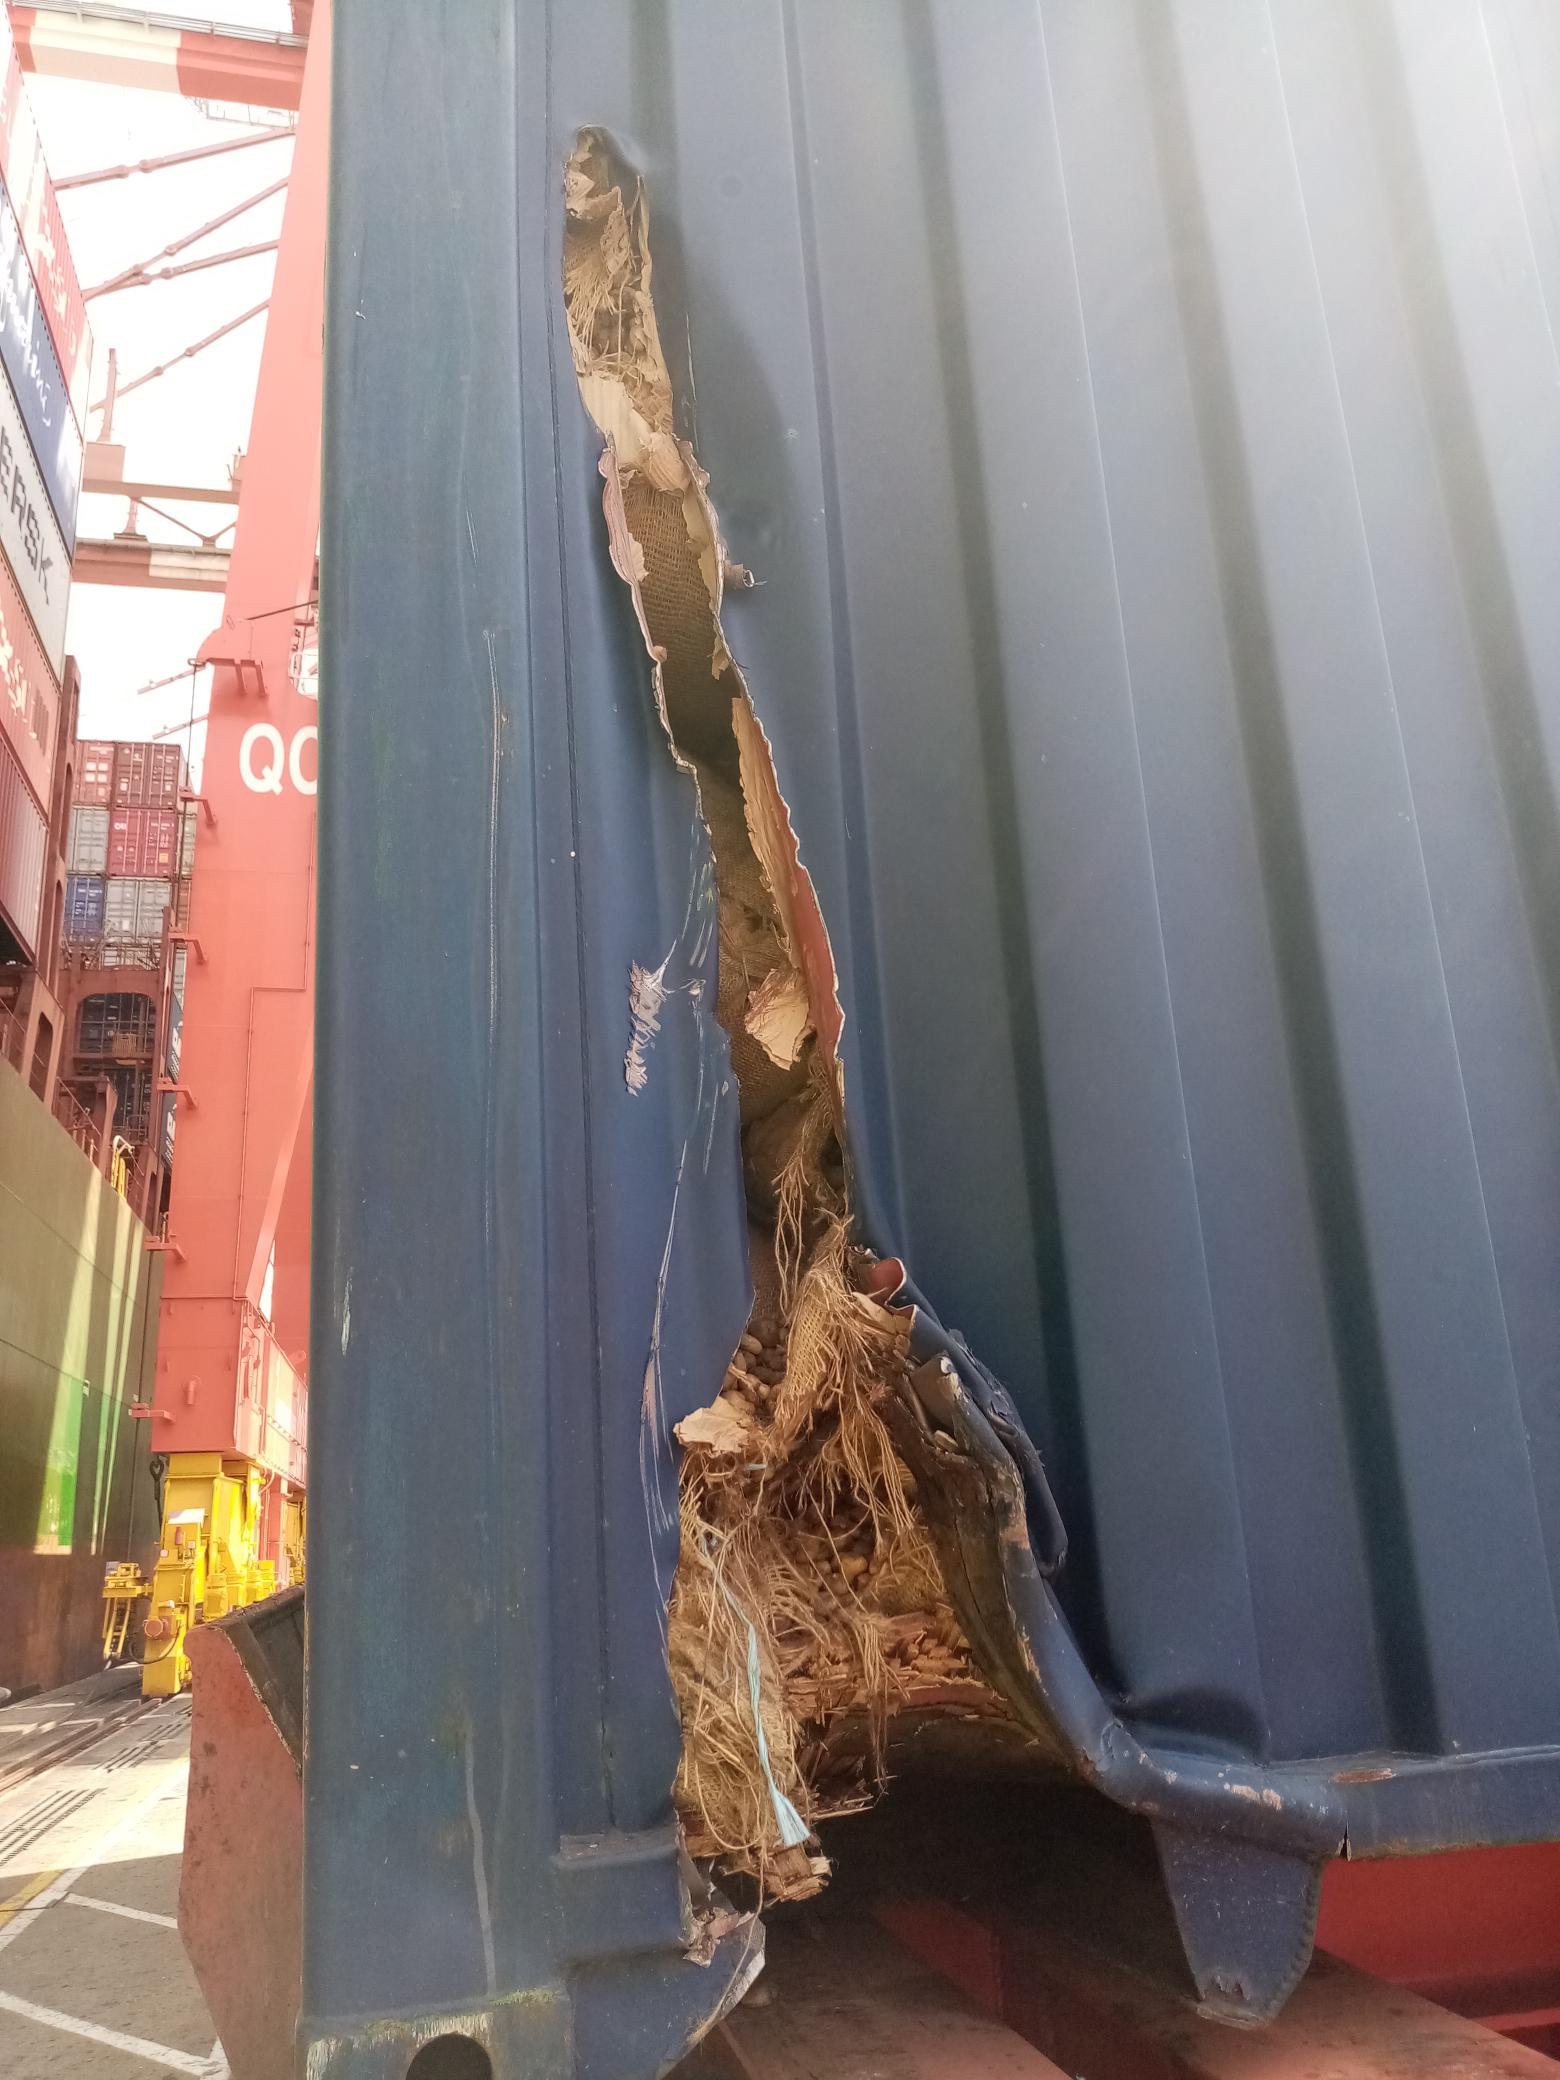cut: (487, 105, 1252, 1874)
